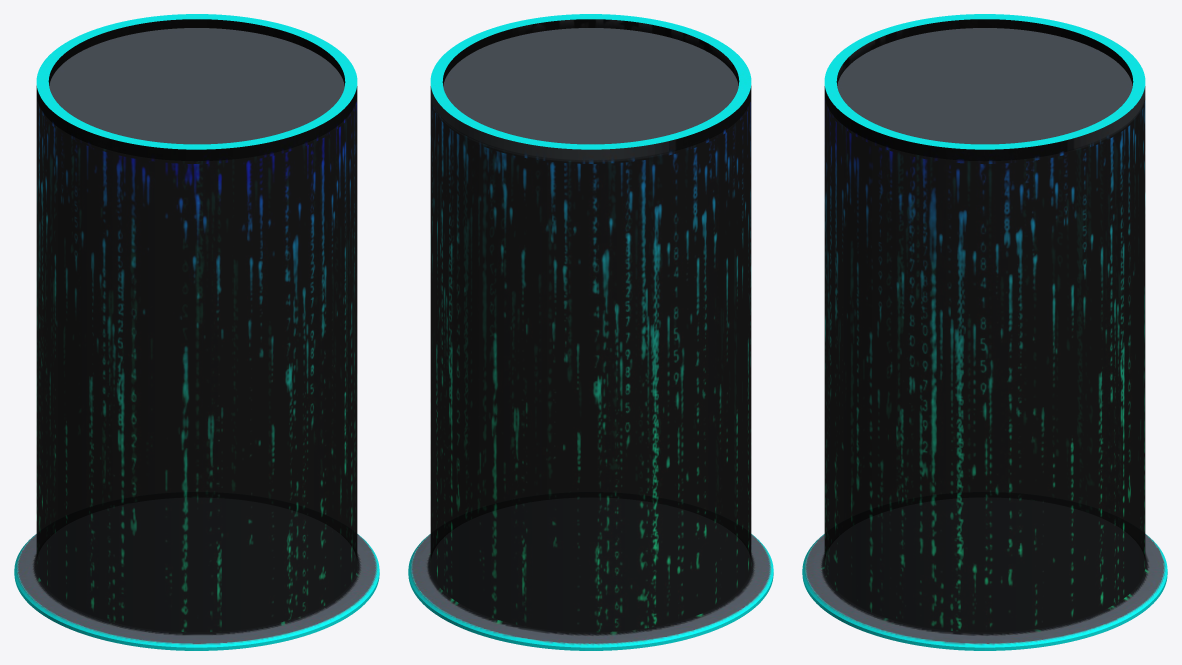
The model's file is silostrans.obj.
The picture shows the model from 3 angles, left to right: view 1: azimuth 30°, elevation 25°; view 2: azimuth 150°, elevation 25°; view 3: azimuth 270°, elevation 25°; orthographic projection.
Parts seen in each view (by area): view 1: Cylinder.001; view 2: Cylinder.001; view 3: Cylinder.001.
Part boxes in pixels (x1,y1,x2,y2): Cylinder.001: (14, 14, 379, 650); Cylinder.001: (408, 14, 773, 650); Cylinder.001: (802, 14, 1167, 650).
Bounding box in the file's own units: 40.36 × 60 × 40.36.
Materials: 3 (3 with a texture image).
